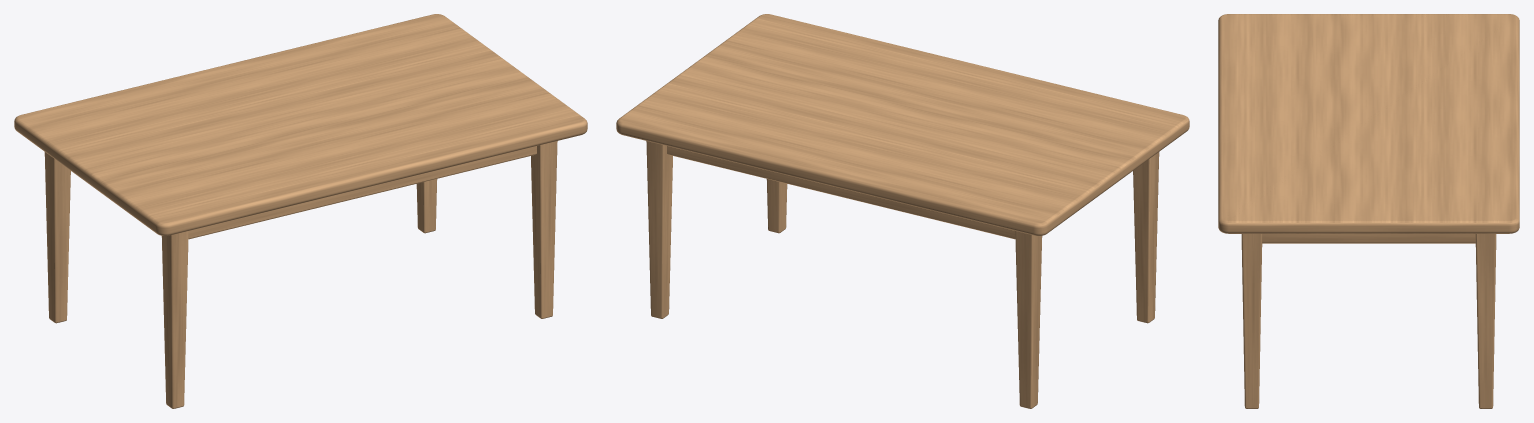
File: prop_dining_table.glb
The picture shows the model from 3 angles, left to right: view 1: azimuth 30°, elevation 25°; view 2: azimuth 150°, elevation 25°; view 3: azimuth 270°, elevation 25°; orthographic projection.
Parts seen in each view (by area): view 1: prop_dining_table; view 2: prop_dining_table; view 3: prop_dining_table.
Part boxes in pixels (bbox=[...]): prop_dining_table: bbox=[14, 14, 587, 408]; prop_dining_table: bbox=[616, 14, 1189, 408]; prop_dining_table: bbox=[1218, 14, 1519, 408].
Bounding box in the file's own units: 1.75 × 0.775 × 1.06.
1 material, 1 textured.
